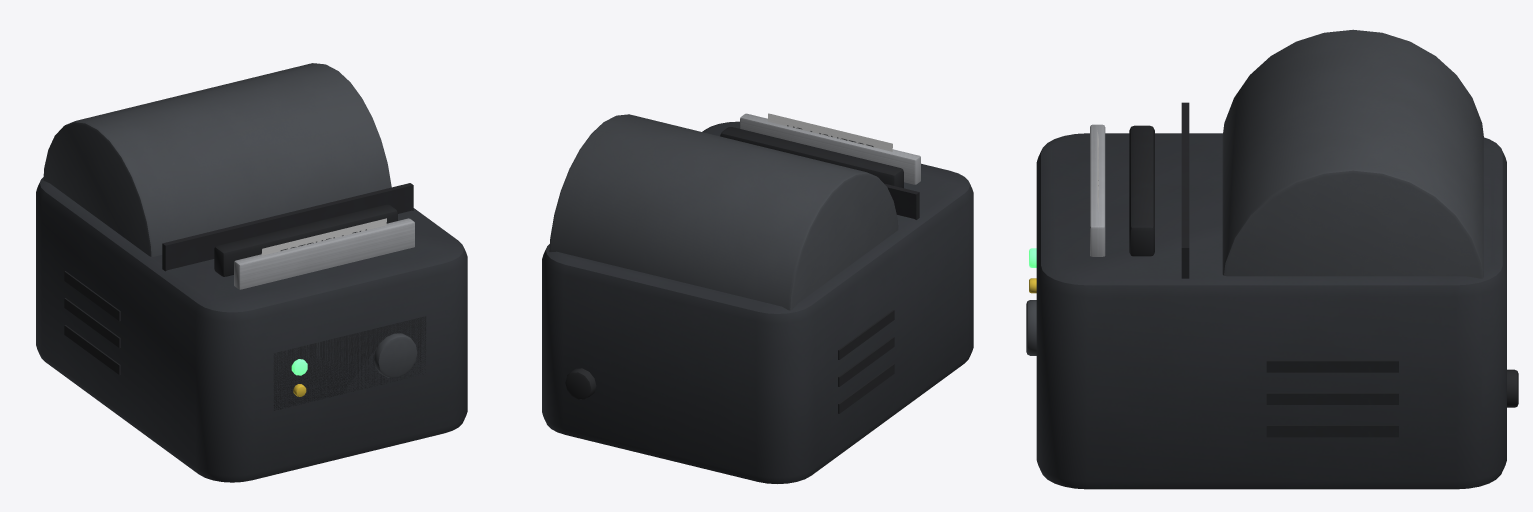
The model's file is receipt_printer.glb.
3 views of the same model, side by side, from view 1: azimuth 30°, elevation 25°; view 2: azimuth 150°, elevation 25°; view 3: azimuth 270°, elevation 25° (orthographic). The views are drawn at different scales.
Visible parts, largest first — view 1: Printer_Body, Printer_Cover, p_panel, p_tearlip, p_coverseam, Printer_OutputSlot, Printer_Button, Receipt_Paper, p_ventL2, p_ventL0, p_ventL1; view 2: Printer_Body, Printer_Cover, p_tearlip, Printer_OutputSlot, Receipt_Paper, p_coverseam, p_cableboss, p_ventL0, p_ventL1, p_ventL2; view 3: Printer_Body, Printer_Cover, Printer_OutputSlot, p_tearlip, p_ventR2, p_ventR0, p_ventR1, p_coverseam, Printer_Button.
Boxes of the visible parts, x1,y1,x2,y2 form: Printer_Body: (36,177,467,482); Printer_Cover: (43,63,391,256); p_panel: (273,316,426,410); p_tearlip: (234,218,414,289); p_coverseam: (162,183,413,271); Printer_OutputSlot: (214,204,397,276); Printer_Button: (374,333,417,377); Receipt_Paper: (261,218,386,255); p_ventL2: (64,271,120,321); p_ventL0: (64,325,120,374); p_ventL1: (64,298,120,348); Printer_Body: (542,121,973,483); Printer_Cover: (549,114,898,310); p_tearlip: (740,113,920,184); Printer_OutputSlot: (720,127,903,188); Receipt_Paper: (767,113,892,151); p_coverseam: (884,183,919,219); p_cableboss: (565,368,596,399); p_ventL0: (838,363,894,413); p_ventL1: (838,337,894,386); p_ventL2: (838,310,894,359); Printer_Body: (1036,133,1506,489); Printer_Cover: (1222,29,1483,278); Printer_OutputSlot: (1129,125,1154,256); p_tearlip: (1090,124,1105,256); p_ventR2: (1266,360,1398,372); p_ventR0: (1266,425,1398,437); p_ventR1: (1266,392,1398,404); p_coverseam: (1181,102,1189,278); Printer_Button: (1026,300,1036,355).
Size of the model in its own units: 0.15 by 0.14 by 0.1935.
9 materials, 5 textured.
